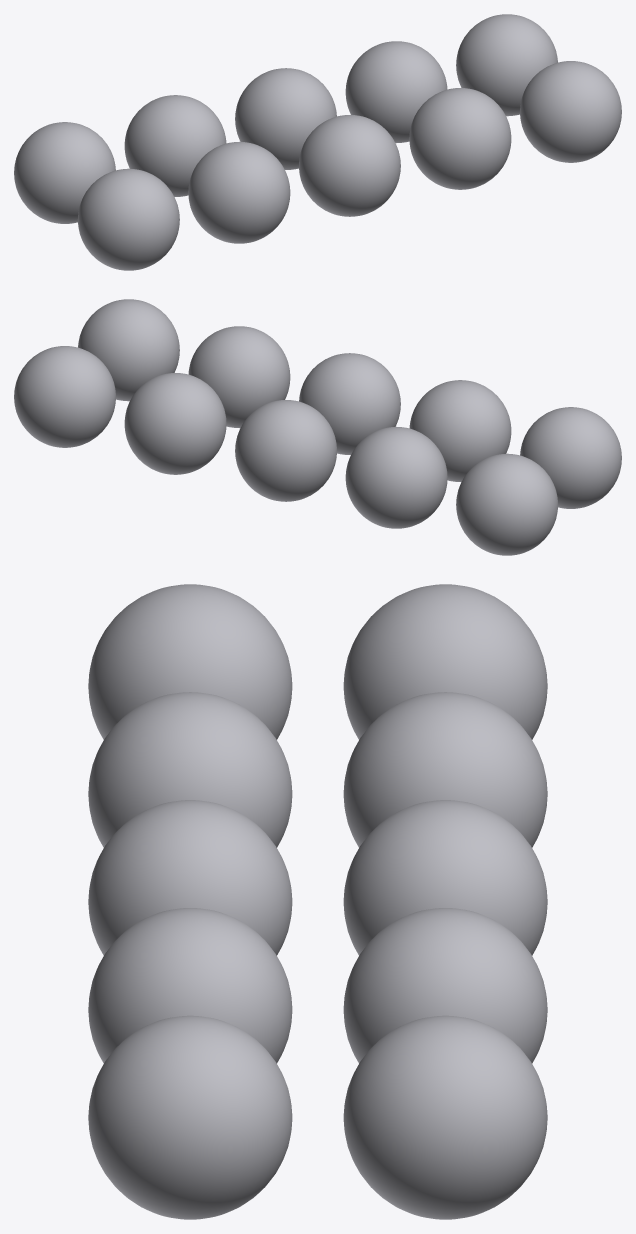
File: Prim_MatGrid.glb
The picture shows the model from 3 angles, top to bottom: view 1: azimuth 30°, elevation 25°; view 2: azimuth 150°, elevation 25°; view 3: azimuth 270°, elevation 25°; orthographic projection. The views are drawn at different scales.
Visible parts, largest first — view 1: MatGrid_R0_C0, MatGrid_R0_C1, MatGrid_R0_C4, MatGrid_R0_C2, MatGrid_R0_C3, MatGrid_R1_C0, MatGrid_R1_C3, MatGrid_R1_C4, MatGrid_R1_C1, MatGrid_R1_C2; view 2: MatGrid_R1_C0, MatGrid_R1_C1, MatGrid_R1_C4, MatGrid_R1_C2, MatGrid_R1_C3, MatGrid_R0_C0, MatGrid_R0_C3, MatGrid_R0_C4, MatGrid_R0_C1, MatGrid_R0_C2; view 3: MatGrid_R0_C4, MatGrid_R1_C4, MatGrid_R0_C0, MatGrid_R1_C0, MatGrid_R0_C1, MatGrid_R1_C1, MatGrid_R0_C3, MatGrid_R1_C3, MatGrid_R0_C2, MatGrid_R1_C2.
Part boxes in pixels (x1,y1,x2,y2): MatGrid_R0_C0: (77,168,179,270); MatGrid_R0_C1: (188,141,290,243); MatGrid_R0_C4: (520,61,621,162); MatGrid_R0_C2: (299,115,400,216); MatGrid_R0_C3: (409,88,511,189); MatGrid_R1_C0: (14,122,115,223); MatGrid_R1_C3: (345,41,447,143); MatGrid_R1_C4: (456,14,557,116); MatGrid_R1_C1: (124,95,226,196); MatGrid_R1_C2: (235,68,336,169); MatGrid_R1_C0: (456,453,558,555); MatGrid_R1_C1: (345,426,447,528); MatGrid_R1_C4: (14,346,115,447); MatGrid_R1_C2: (235,400,336,501); MatGrid_R1_C3: (124,373,226,474); MatGrid_R0_C0: (520,407,621,508); MatGrid_R0_C3: (188,326,290,428); MatGrid_R0_C4: (78,299,179,401); MatGrid_R0_C1: (409,380,511,481); MatGrid_R0_C2: (299,353,400,454); MatGrid_R0_C4: (88,1015,292,1219); MatGrid_R1_C4: (343,1015,547,1219); MatGrid_R0_C0: (88,584,292,739); MatGrid_R1_C0: (343,584,547,739); MatGrid_R0_C1: (88,692,292,847); MatGrid_R1_C1: (343,692,547,847); MatGrid_R0_C3: (88,908,292,1063); MatGrid_R1_C3: (343,908,547,1063); MatGrid_R0_C2: (88,800,292,955); MatGrid_R1_C2: (343,800,547,955).
Bounding box in the file's own units: 9.6 × 1.6 × 3.6.
10 materials, 10 textured.
